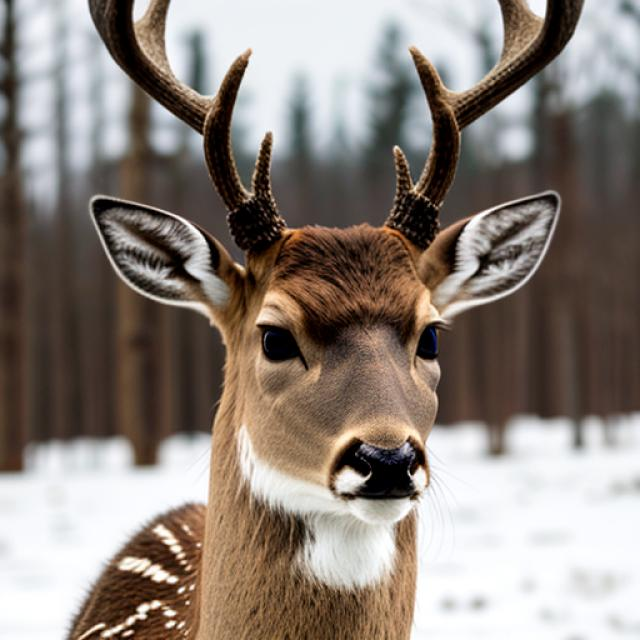deer: (47, 0, 551, 640)
